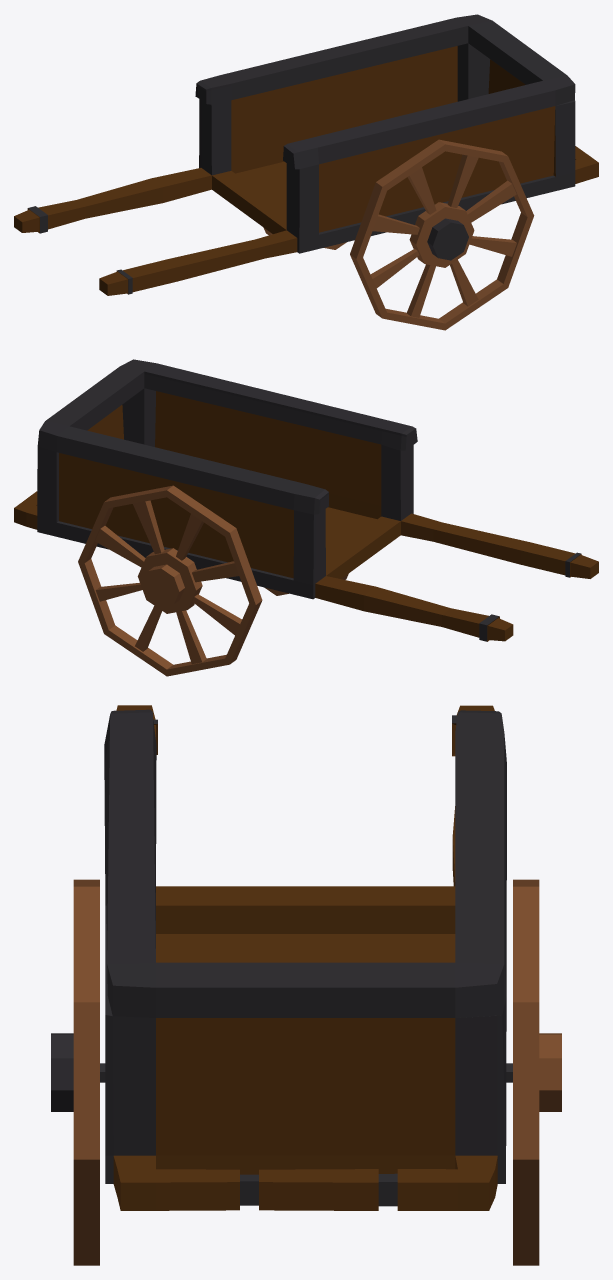
File: CartNoFella.fbx
3 renders of one model, top to bottom at view 1: azimuth 30°, elevation 25°; view 2: azimuth 150°, elevation 25°; view 3: azimuth 270°, elevation 25°, orthographic. The views are drawn at different scales.
Parts seen in each view (by area): view 1: Cart, Wheel; view 2: Cart, Wheel.001; view 3: Cart, Wheel, Wheel.001.
Part boxes in pixels (x1,y1,x2,y2): Cart: (14, 14, 598, 295); Wheel: (350, 139, 534, 330); Cart: (14, 359, 598, 641); Wheel.001: (78, 485, 262, 676); Cart: (104, 705, 506, 1210); Wheel: (51, 879, 99, 1265); Wheel.001: (513, 879, 561, 1265).
Bounding box in the file's own units: 885 × 354 × 398.
